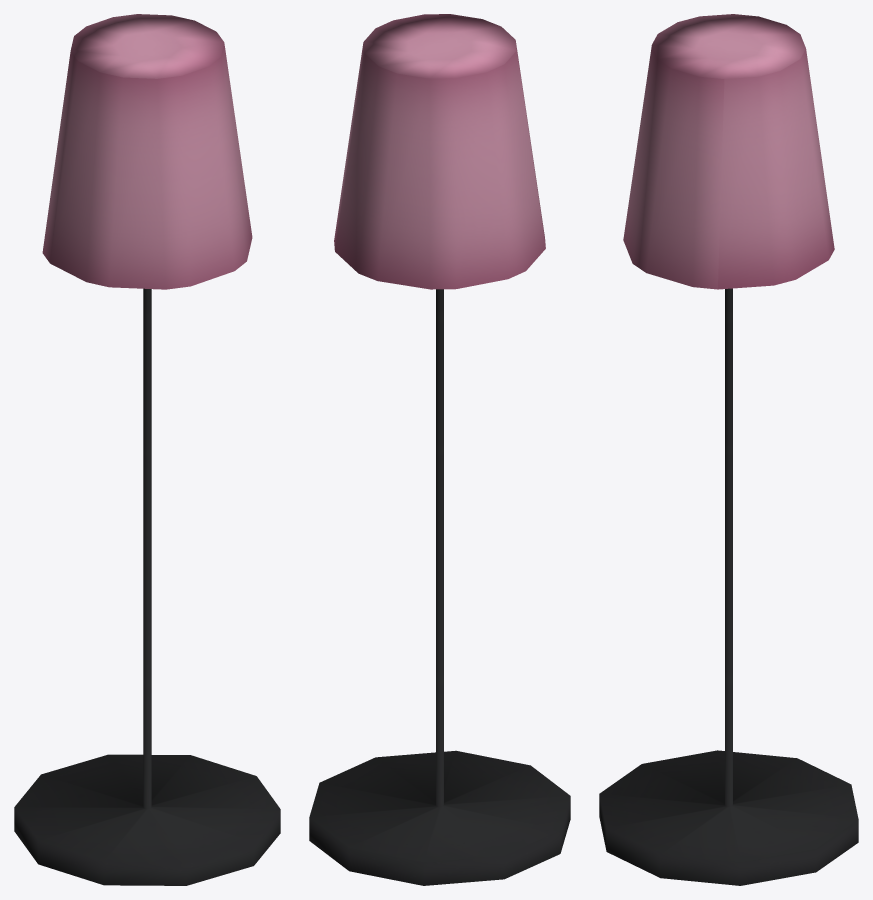
Rendered from FloorLamp.fbx.
The picture shows the model from 3 angles, left to right: view 1: azimuth 30°, elevation 25°; view 2: azimuth 150°, elevation 25°; view 3: azimuth 270°, elevation 25°; orthographic projection.
Visible parts, largest first — view 1: FloorLamp_Mesh; view 2: FloorLamp_Mesh; view 3: FloorLamp_Mesh.
Part boxes in pixels (x1=…): FloorLamp_Mesh: x1=14, y1=14, x2=280, y2=885; FloorLamp_Mesh: x1=309, y1=14, x2=570, y2=885; FloorLamp_Mesh: x1=599, y1=14, x2=858, y2=885.
Size of the model in its own units: 4.31 by 14.07 by 4.22.
1 material, 1 textured.
